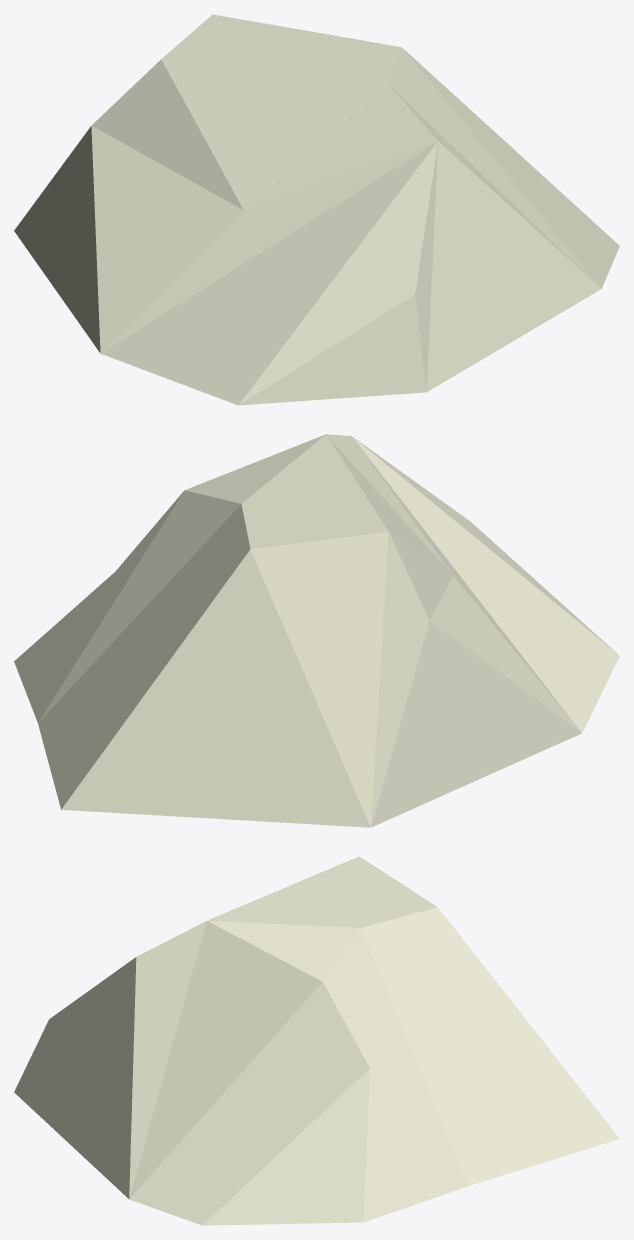
Rendered from snowdrift 1.fbx.
The picture shows the model from 3 angles, top to bottom: view 1: azimuth 30°, elevation 25°; view 2: azimuth 150°, elevation 25°; view 3: azimuth 270°, elevation 25°; orthographic projection. The views are drawn at different scales.
Parts seen in each view (by area): view 1: Cube.001; view 2: Cube.001; view 3: Cube.001.
Boxes of the visible parts, x1,y1,x2,y2 form: Cube.001: (14,14,619,405); Cube.001: (14,434,619,827); Cube.001: (14,856,619,1225).
Bounding box in the file's own units: 345 × 143 × 391.
